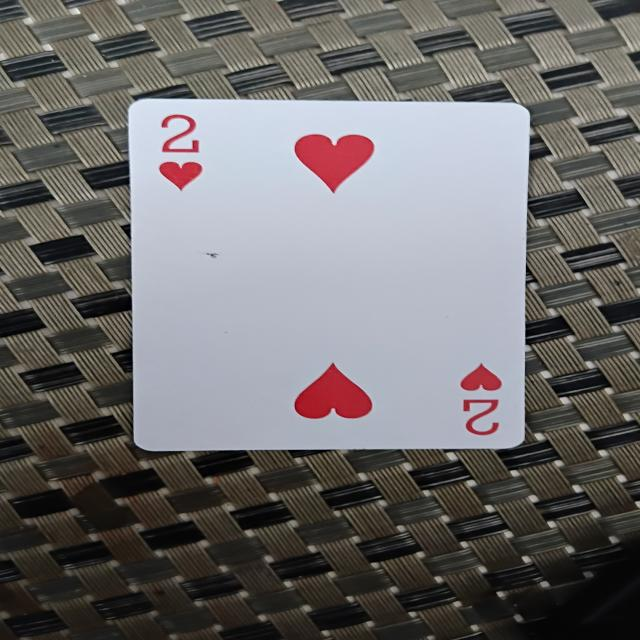2H: (128, 102, 524, 447)
